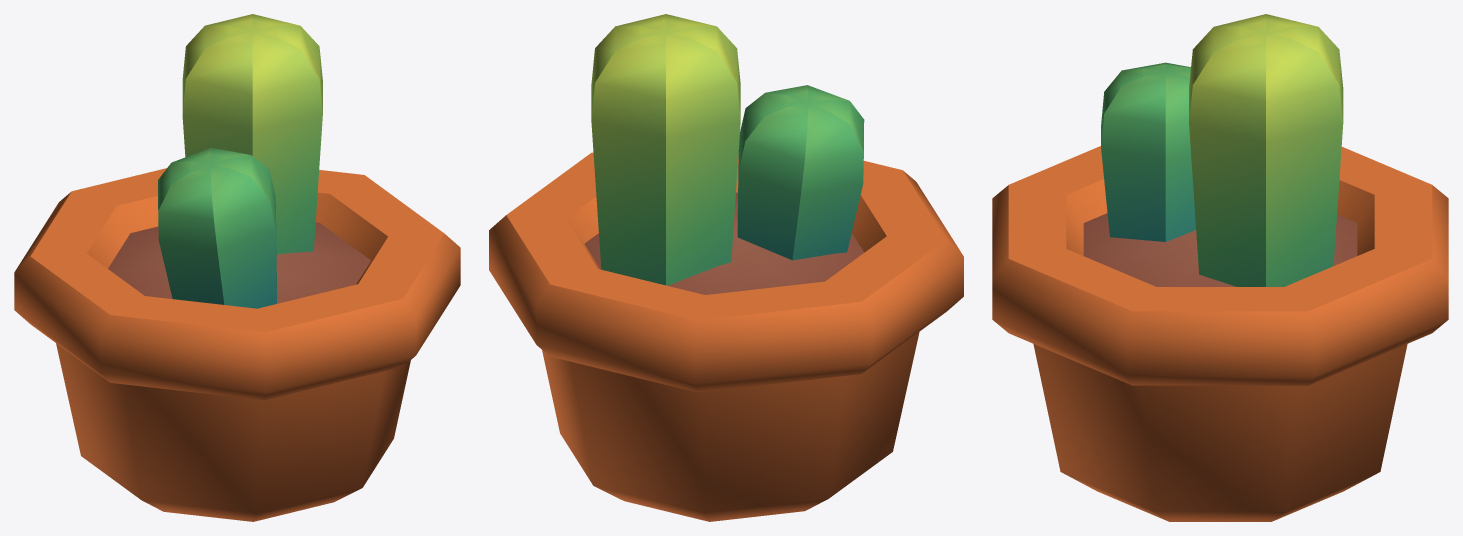
Rendered from cactus_small_B.obj.
The picture shows the model from 3 angles, left to right: view 1: azimuth 30°, elevation 25°; view 2: azimuth 150°, elevation 25°; view 3: azimuth 270°, elevation 25°; orthographic projection. The views are drawn at different scales.
Parts seen in each view (by area): view 1: cactus_small_B_Cylinder.002; view 2: cactus_small_B_Cylinder.002; view 3: cactus_small_B_Cylinder.002.
Part boxes in pixels (x1,y1,x2,y2): cactus_small_B_Cylinder.002: (14, 14, 460, 521); cactus_small_B_Cylinder.002: (489, 14, 963, 521); cactus_small_B_Cylinder.002: (992, 14, 1448, 521).
Bounding box in the file's own units: 0.5 × 0.5516 × 0.5.
1 material, 1 textured.
